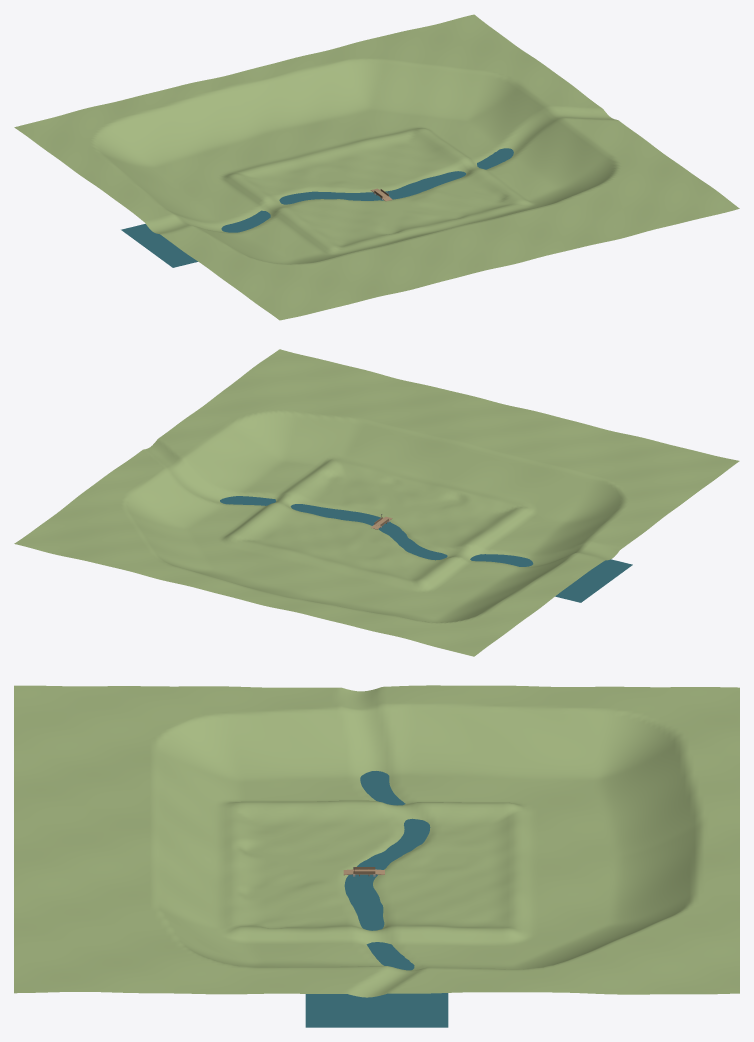
File: bosque_norte.glb
3 renders of one model, top to bottom at view 1: azimuth 30°, elevation 25°; view 2: azimuth 150°, elevation 25°; view 3: azimuth 270°, elevation 25°, orthographic. The views are drawn at different scales.
Parts seen in each view (by area): view 1: Terreno, Rio_agua; view 2: Terreno, Rio_agua; view 3: Terreno, Rio_agua.
Part boxes in pixels (left/top/right/bottom): Terreno: left=14, top=14, right=739, bottom=320; Rio_agua: left=121, top=148, right=513, bottom=267; Terreno: left=14, top=349, right=739, bottom=656; Rio_agua: left=220, top=496, right=632, bottom=602; Terreno: left=14, top=685, right=739, bottom=997; Rio_agua: left=305, top=771, right=448, bottom=1027.
Size of the model in its own units: 224 by 13.09 by 224.
